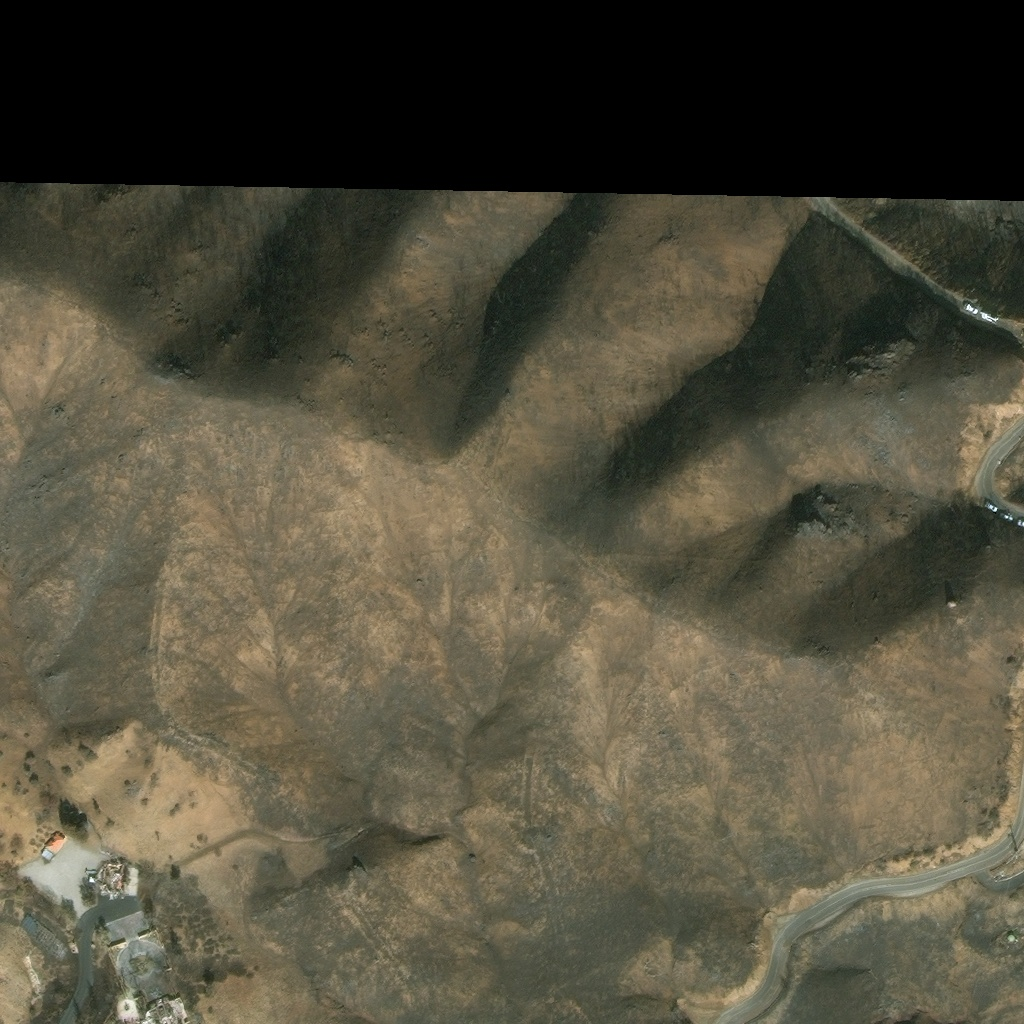1 minor-damage: (38, 829, 67, 863)
3 destroyed: (126, 994, 188, 1023), (98, 857, 125, 889)
